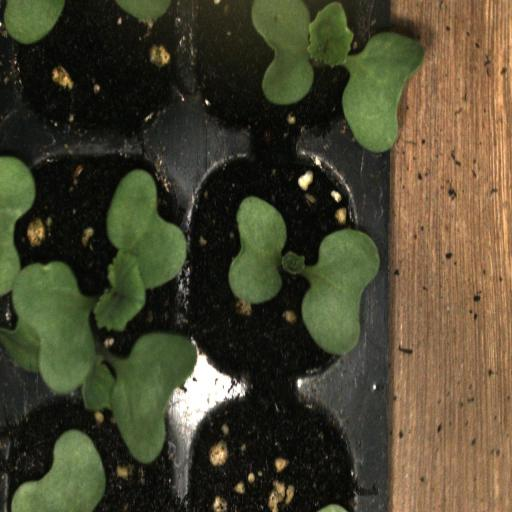seedling: (184, 141, 373, 388), (187, 0, 370, 144)
twoseedling: (6, 139, 186, 391)
